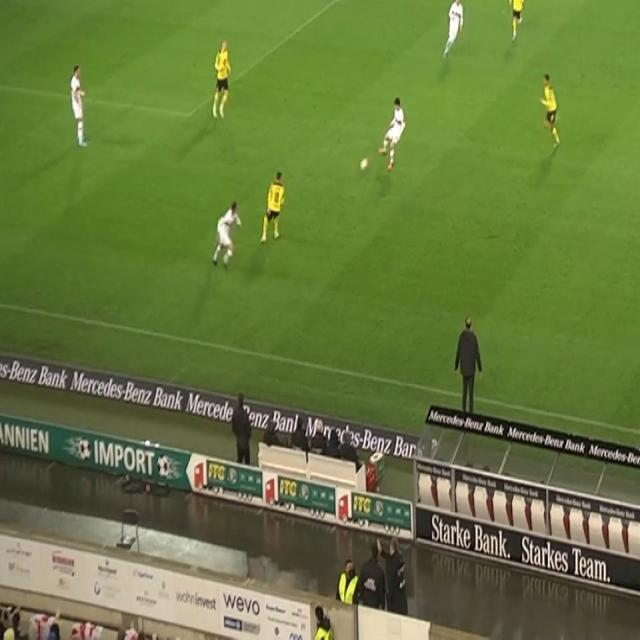ball: (359, 156, 369, 171)
